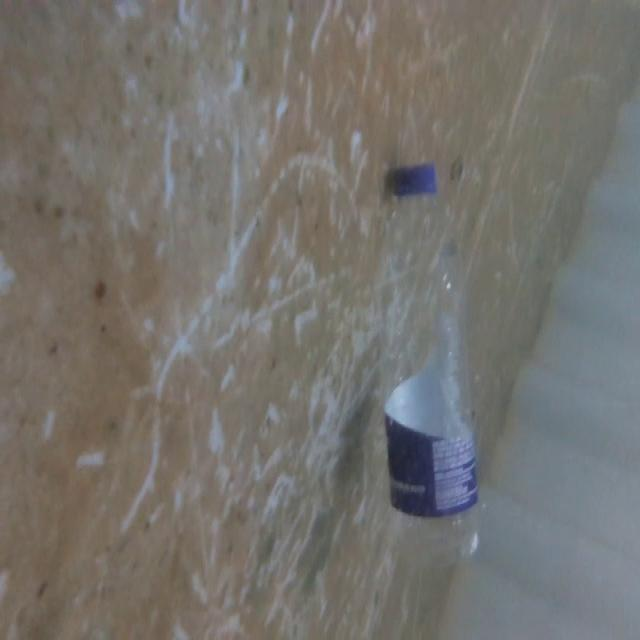plastic bottle: (382, 160, 497, 557)
